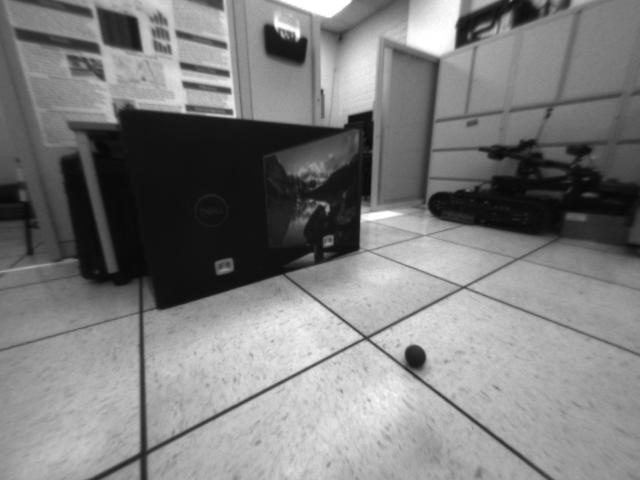dogtoy: (402, 341, 431, 374)
